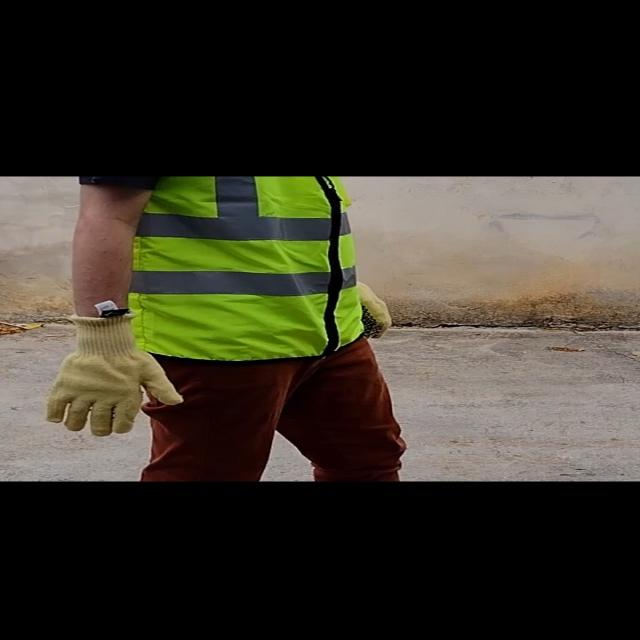glove: (43, 311, 187, 435)
pants: (130, 352, 415, 482)
vest: (108, 173, 366, 357)
